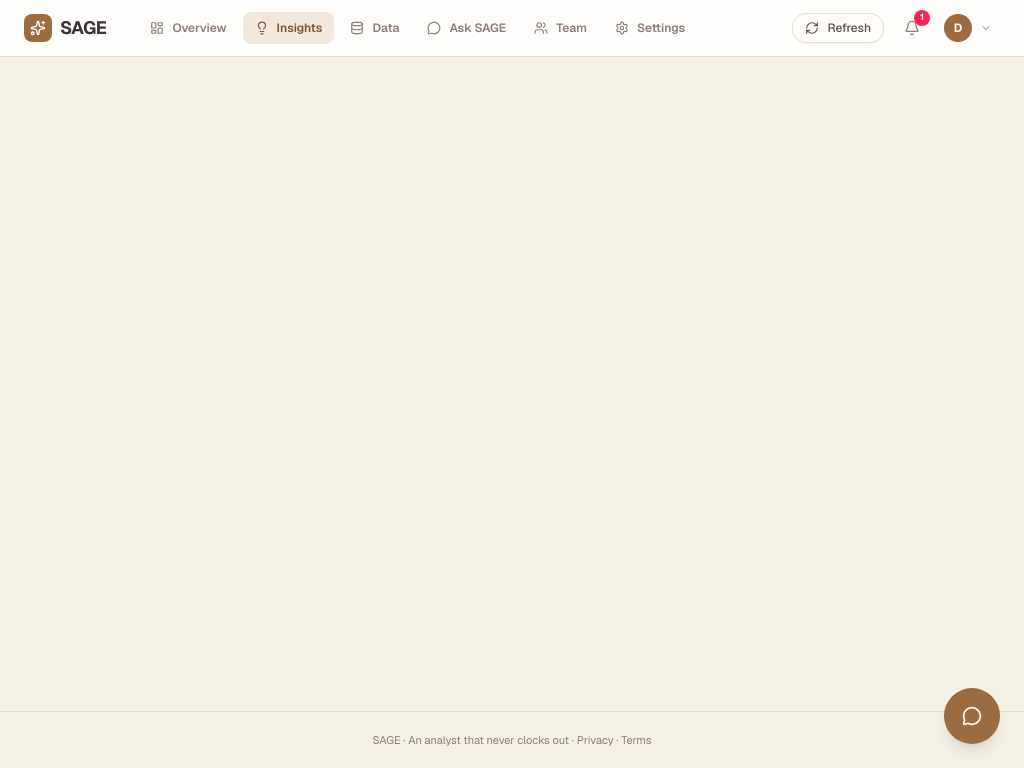
Test case: AppShell › badges the bell with the anomaly count and lists them
Click the button named "notifications, 1 flagged": (912, 28) x1=896 y1=12 x2=928 y2=44
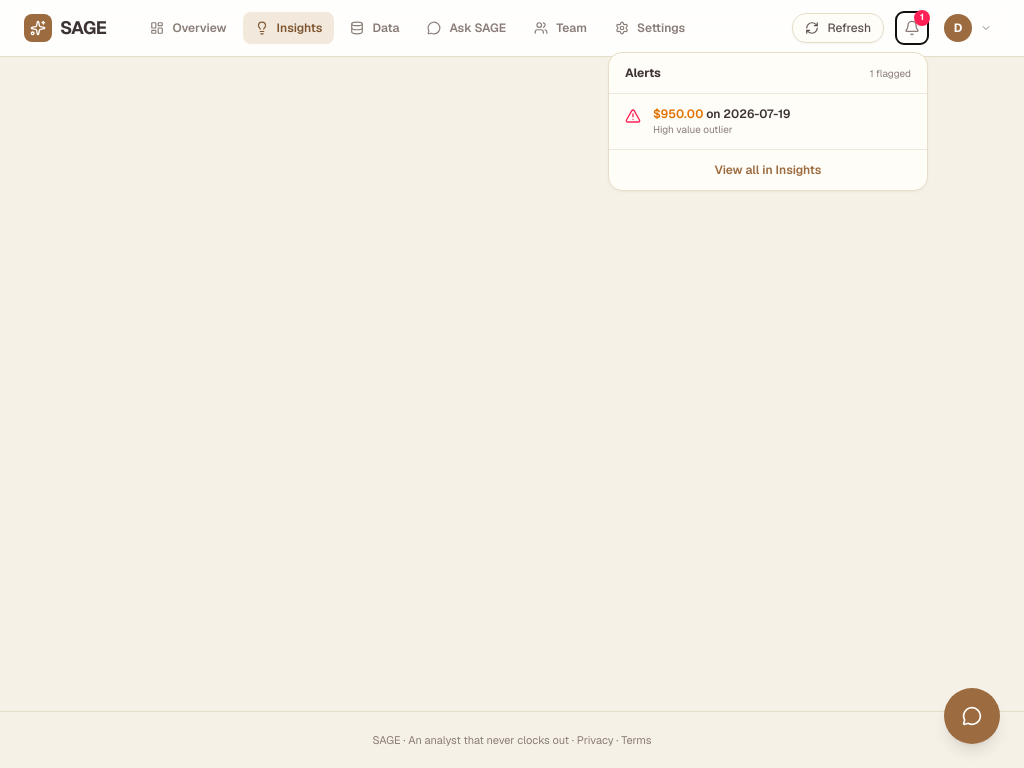
expect the text "High value outlier" is shown: met, box x1=653 y1=123 x2=732 y2=136
